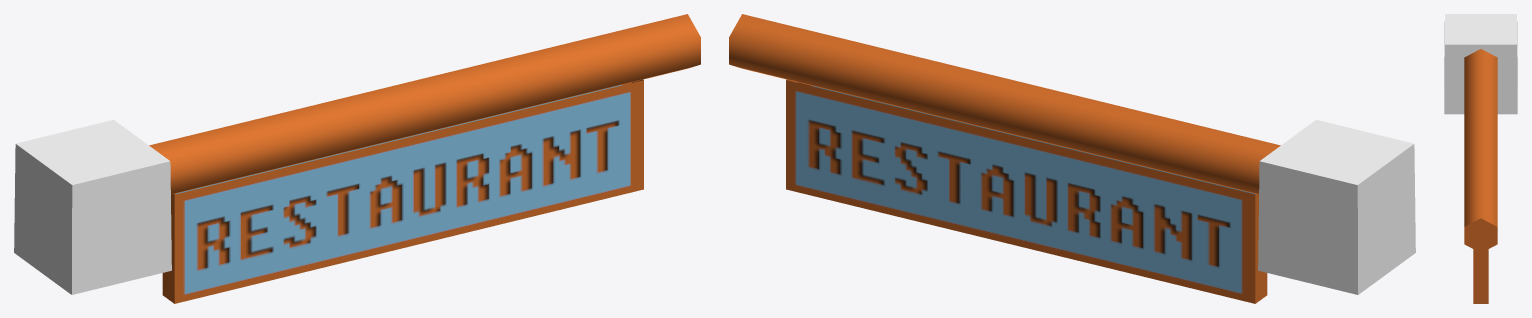
File: Part_Name_Restaurant.FBX
The picture shows the model from 3 angles, left to right: view 1: azimuth 30°, elevation 25°; view 2: azimuth 150°, elevation 25°; view 3: azimuth 270°, elevation 25°; orthographic projection. The views are drawn at different scales.
Parts seen in each view (by area): view 1: Part_Name_Restaurant; view 2: Part_Name_Restaurant; view 3: Part_Name_Restaurant.
Part boxes in pixels (<box>): Part_Name_Restaurant: <box>14,14,700,303</box>; Part_Name_Restaurant: <box>729,14,1415,303</box>; Part_Name_Restaurant: <box>1444,14,1517,303</box>.
Size of the model in its own units: 617 by 151 by 95.71.
